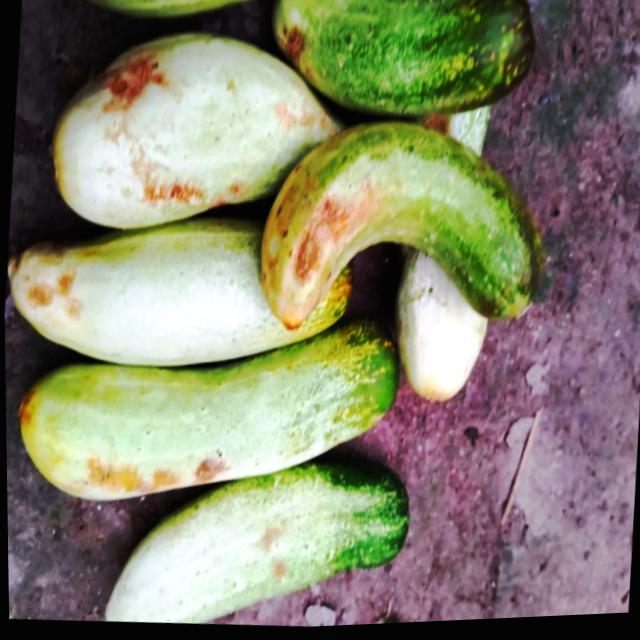Belly-Rot: (287, 187, 373, 292), (80, 447, 226, 506), (129, 162, 245, 226), (91, 49, 171, 125), (18, 244, 87, 331), (256, 526, 290, 587), (275, 21, 309, 70)
